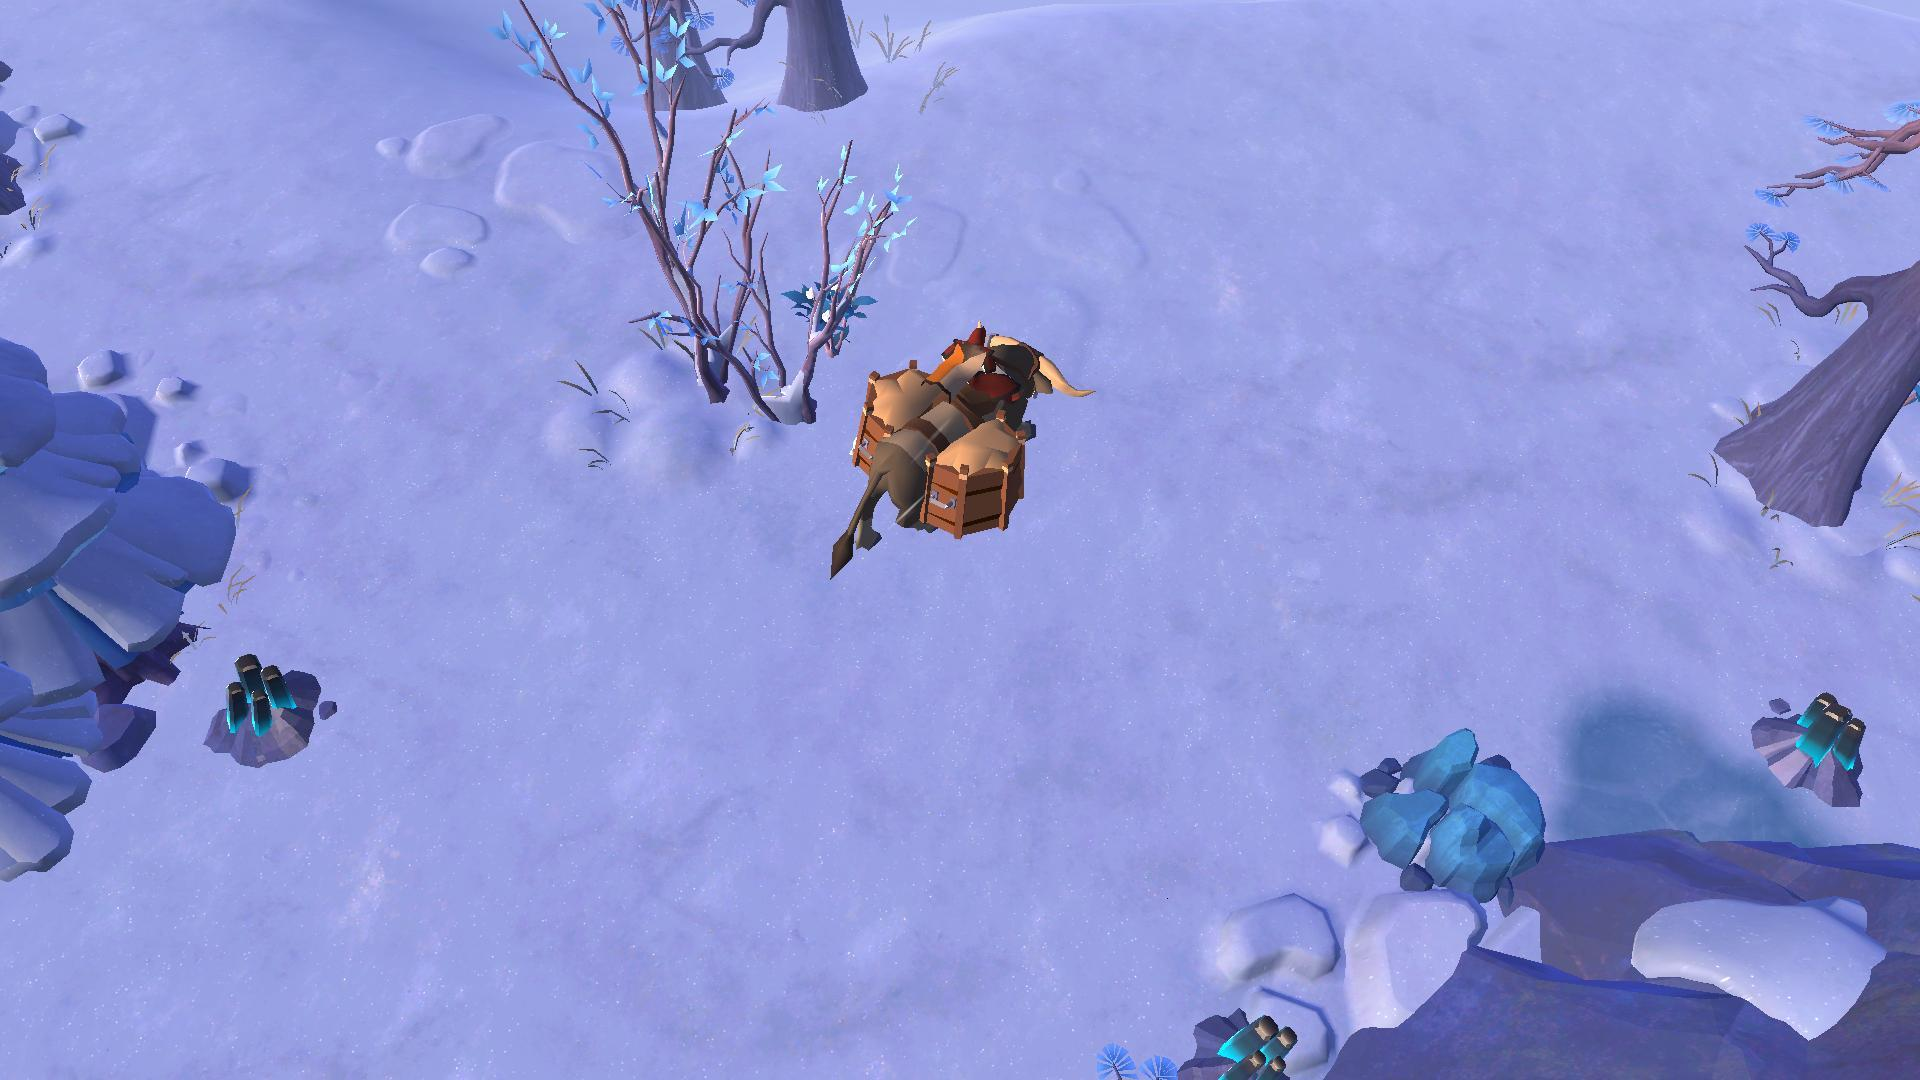fiber_t4: (781, 268, 877, 353)
ore_t4: (215, 650, 299, 737), (1787, 688, 1867, 774), (1205, 1006, 1294, 1080)
rock_t4: (1353, 713, 1563, 905)
